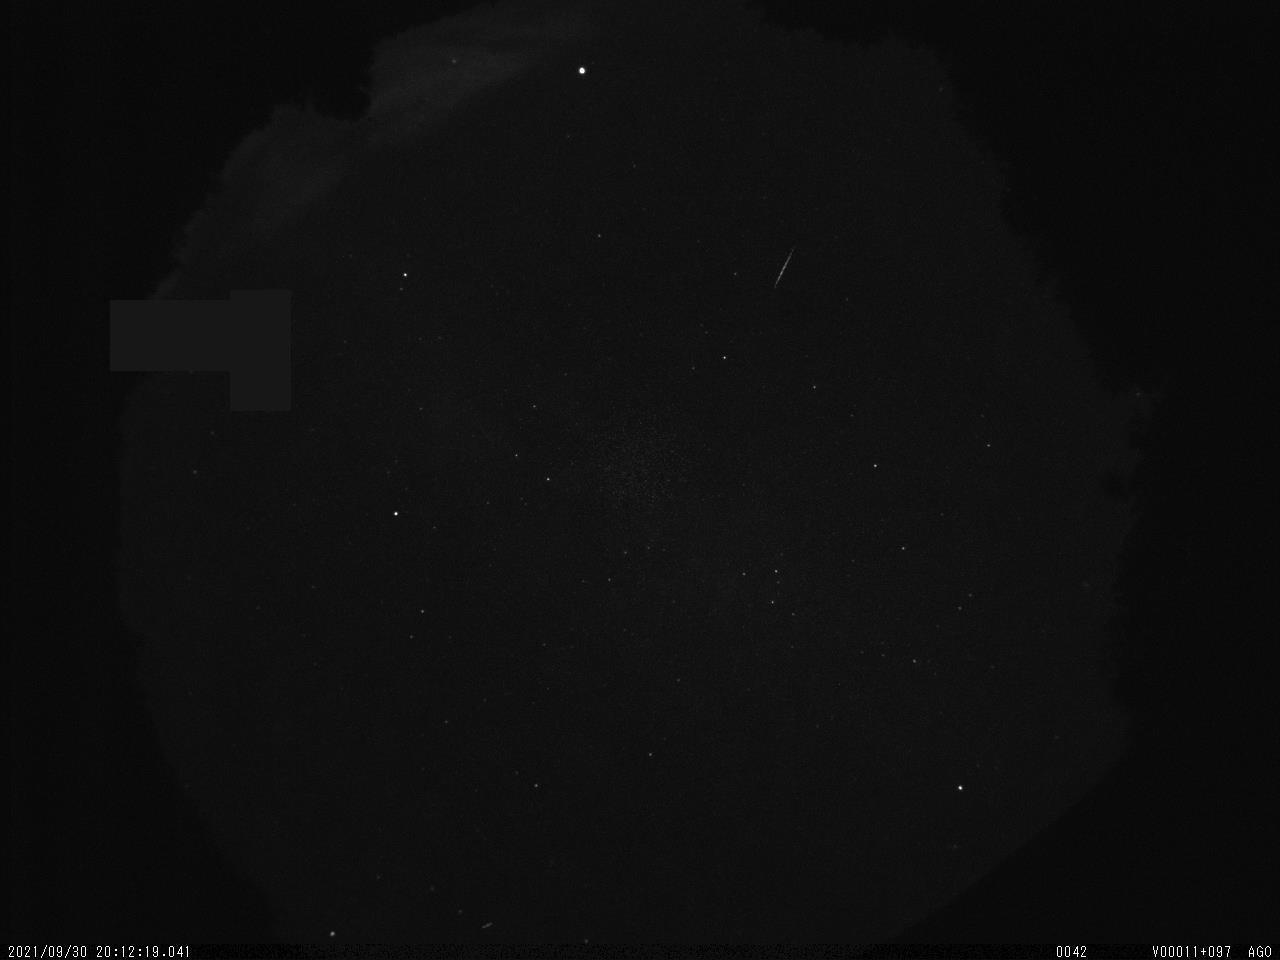meteor: (758, 235, 810, 298)
